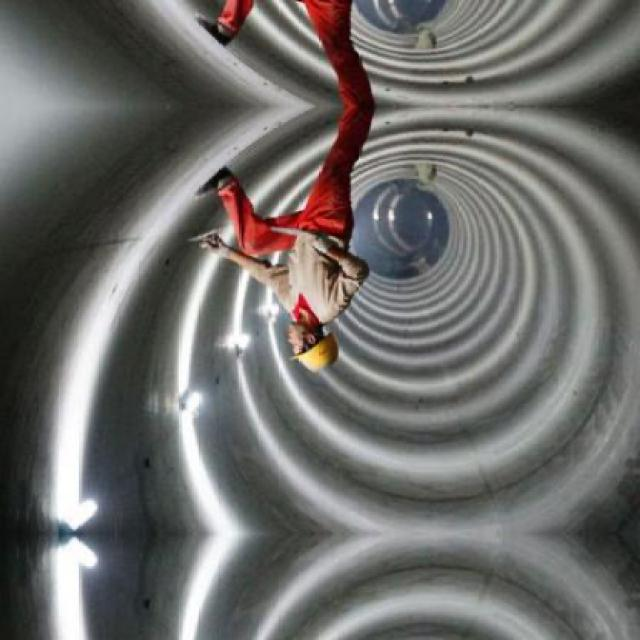con casco: (237, 281, 370, 398)
